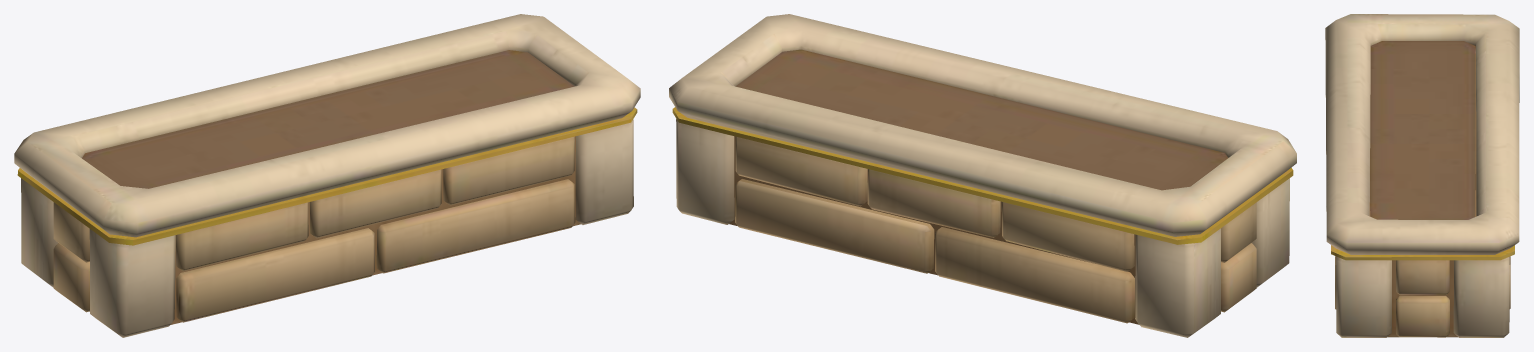
File: planter-trough.glb
The picture shows the model from 3 angles, left to right: view 1: azimuth 30°, elevation 25°; view 2: azimuth 150°, elevation 25°; view 3: azimuth 270°, elevation 25°; orthographic projection. The views are drawn at different scales.
Parts seen in each view (by area): view 1: trough, soil; view 2: trough, soil; view 3: trough, soil.
Boxes of the visible parts, left/top/right/bottom form: trough: left=14, top=14, right=640, bottom=337; soil: left=82, top=50, right=574, bottom=188; trough: left=669, top=14, right=1296, bottom=337; soil: left=735, top=49, right=1227, bottom=190; trough: left=1325, top=14, right=1519, bottom=337; soil: left=1370, top=41, right=1475, bottom=219.
Bounding box in the file's own units: 1.8 × 0.4246 × 0.6616.
Materials: 5 (5 with a texture image).
